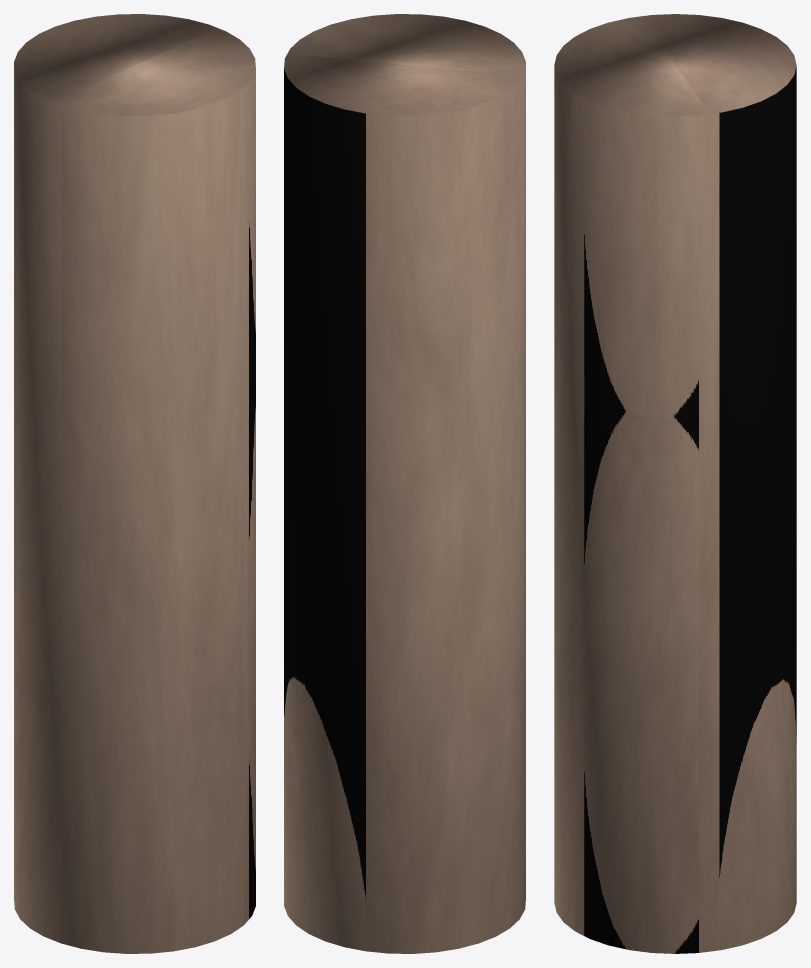
The model's file is molkky2.fbx.
The picture shows the model from 3 angles, left to right: view 1: azimuth 30°, elevation 25°; view 2: azimuth 150°, elevation 25°; view 3: azimuth 270°, elevation 25°; orthographic projection.
Parts seen in each view (by area): view 1: Molkky; view 2: Molkky; view 3: Molkky.
Part boxes in pixels (x1,y1,x2,y2): Molkky: [14, 14, 255, 953]; Molkky: [284, 14, 525, 953]; Molkky: [554, 14, 796, 953].
Size of the model in its own units: 5.9 by 22.5 by 5.9.
